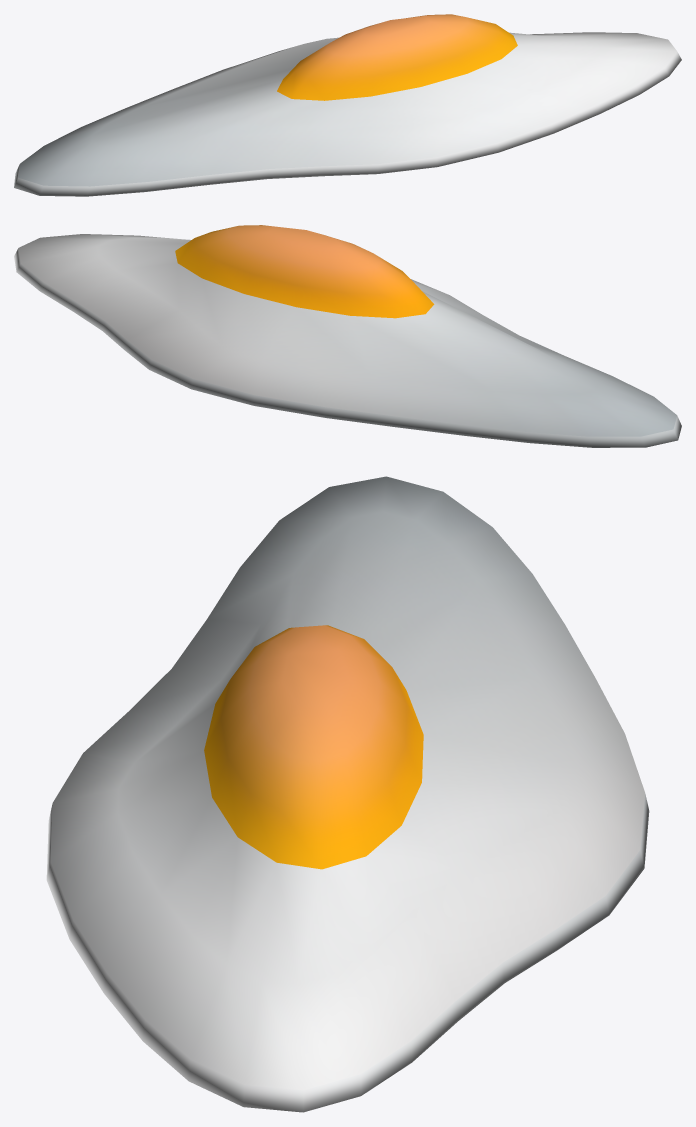
Rendered from egg_004.fbx.
3 renders of one model, top to bottom at view 1: azimuth 30°, elevation 25°; view 2: azimuth 150°, elevation 25°; view 3: azimuth 270°, elevation 25°, orthographic. The views are drawn at different scales.
Parts seen in each view (by area): view 1: egg_004; view 2: egg_004; view 3: egg_004.
Boxes of the visible parts, bbox=[...] form: egg_004: bbox=[14, 14, 681, 196]; egg_004: bbox=[14, 225, 681, 447]; egg_004: bbox=[46, 476, 649, 1112].
Bounding box in the file's own units: 16.1 × 6.59 × 2.06.
